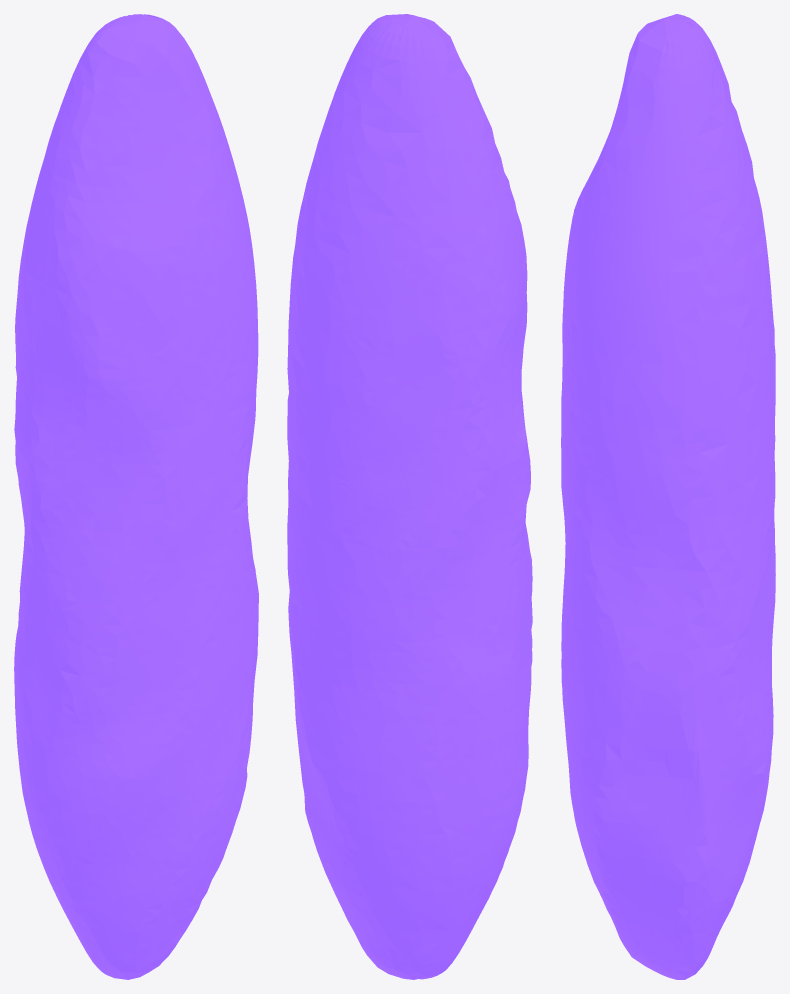
The model's file is Shard1.fbx.
The picture shows the model from 3 angles, left to right: view 1: azimuth 30°, elevation 25°; view 2: azimuth 150°, elevation 25°; view 3: azimuth 270°, elevation 25°; orthographic projection.
Visible parts, largest first — view 1: Shard1; view 2: Shard1; view 3: Shard1.
Part boxes in pixels (bbox=[...]): Shard1: bbox=[14, 14, 258, 979]; Shard1: bbox=[287, 14, 532, 979]; Shard1: bbox=[561, 14, 775, 979].
Size of the model in its own units: 234 by 974 by 198.
